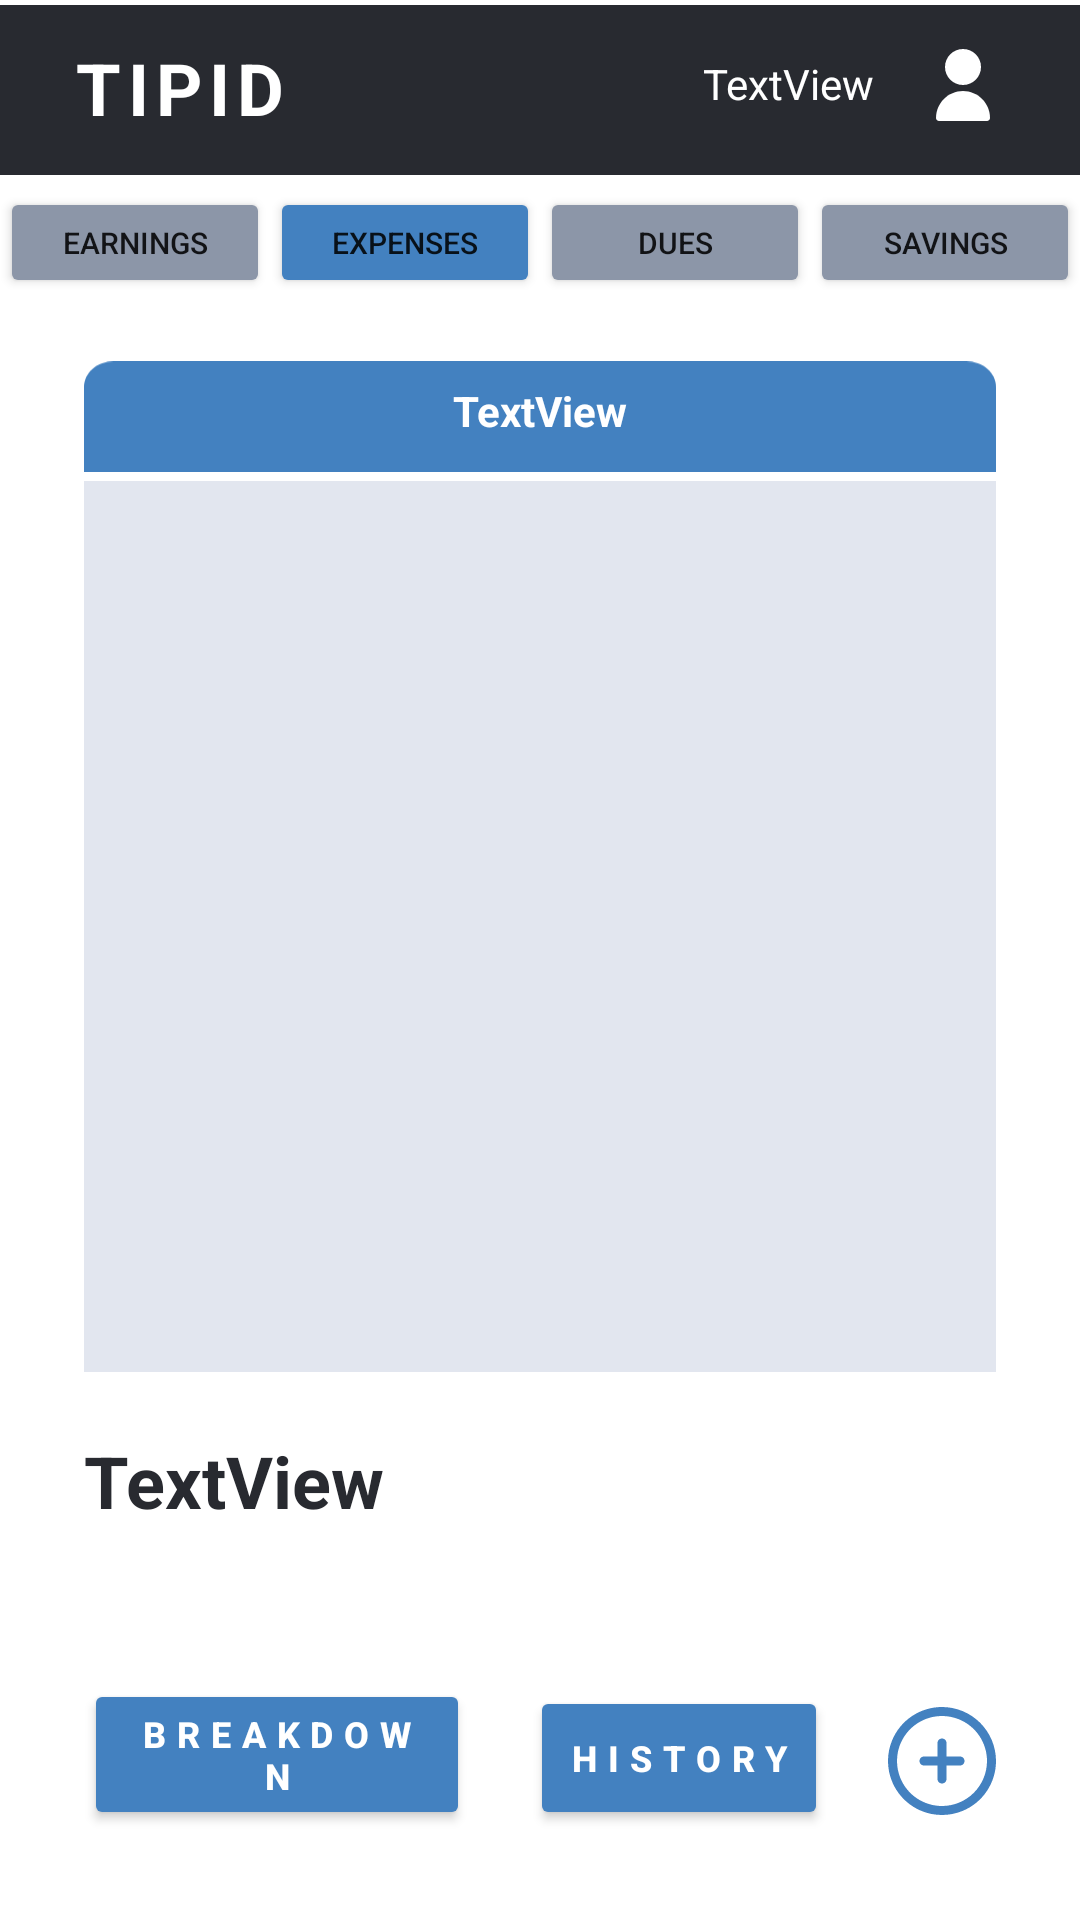

Point at icon controls on the screen. Image size 1080*1920, points as (x,y).
account: (963,85)
add: (942,1761)
